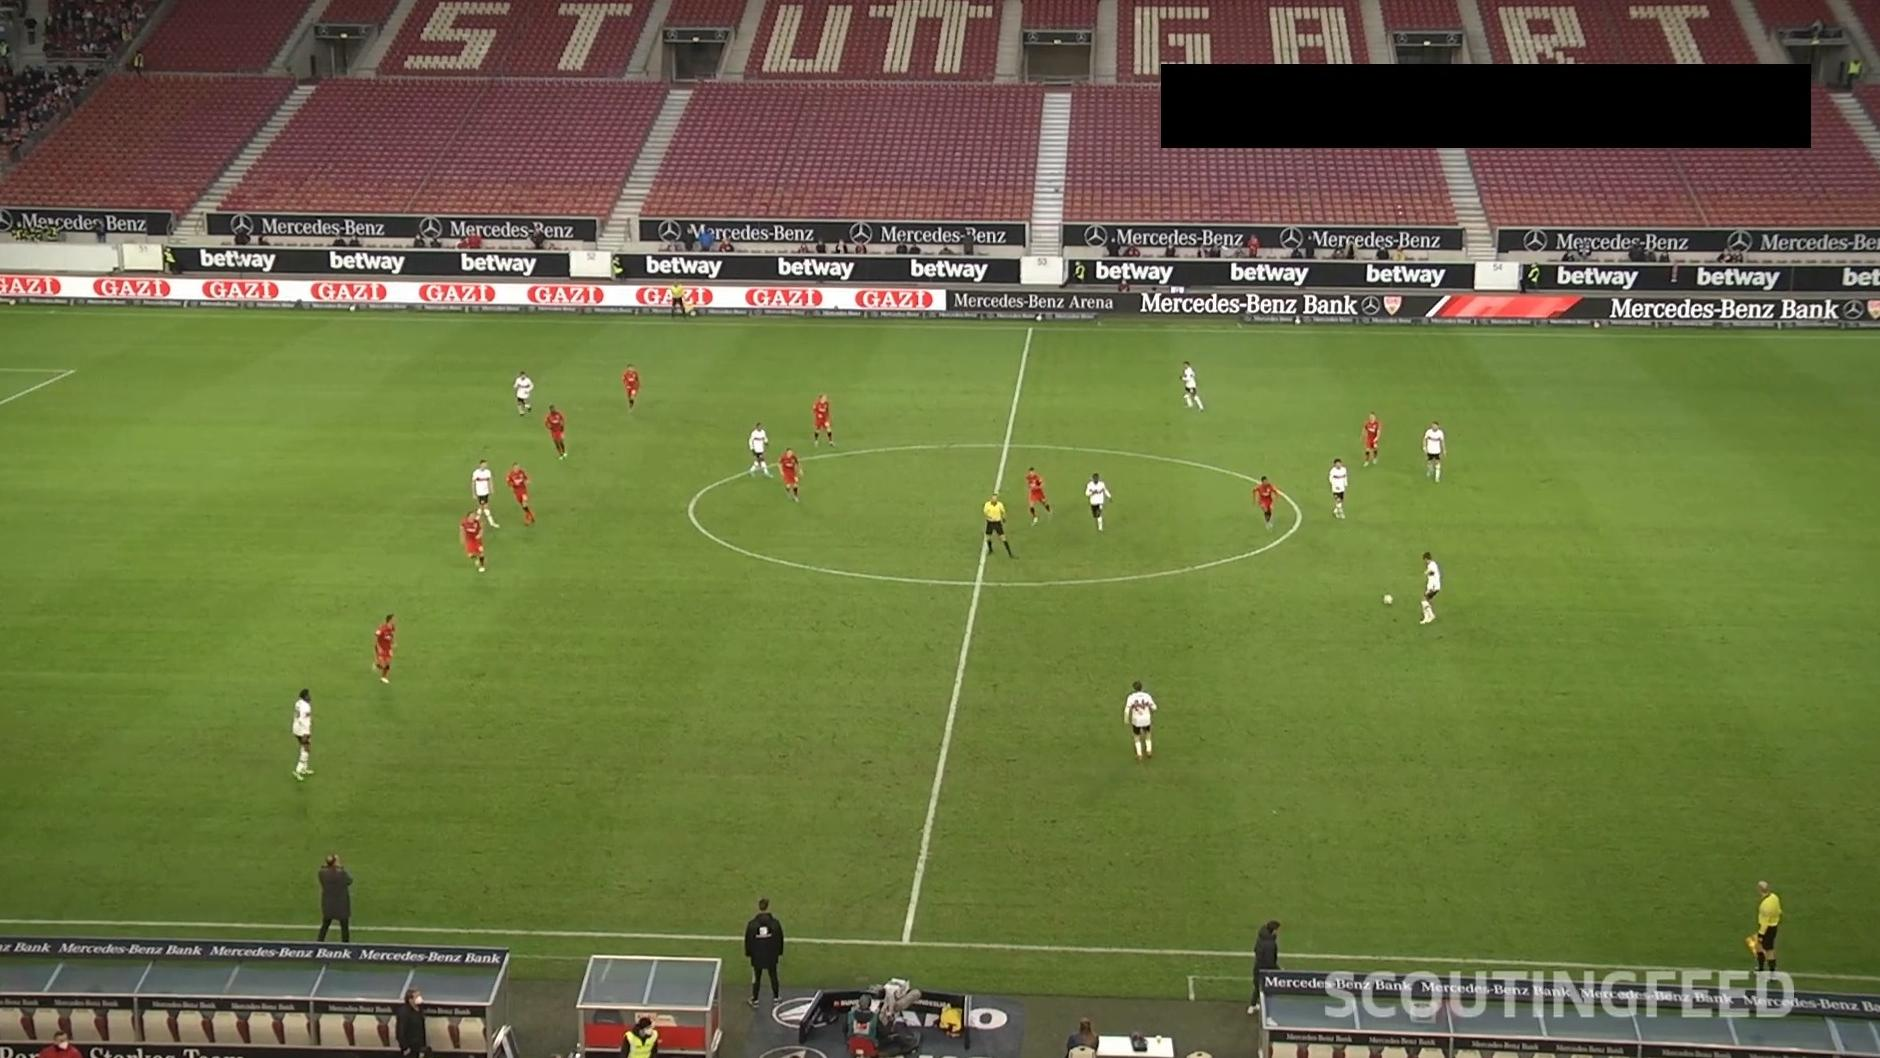ball: (1380, 592, 1395, 607)
